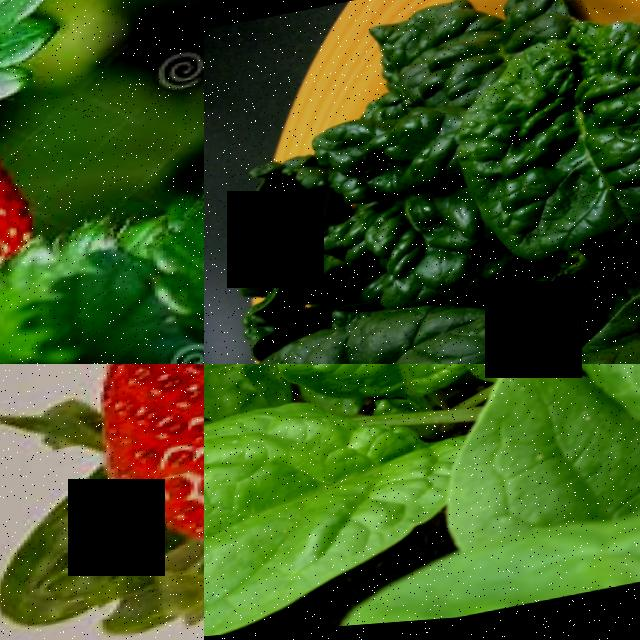spinach: (204, 380, 465, 629), (453, 18, 640, 268), (438, 404, 640, 577), (208, 298, 483, 364), (270, 364, 525, 426)
strawberry: (44, 364, 204, 597)
